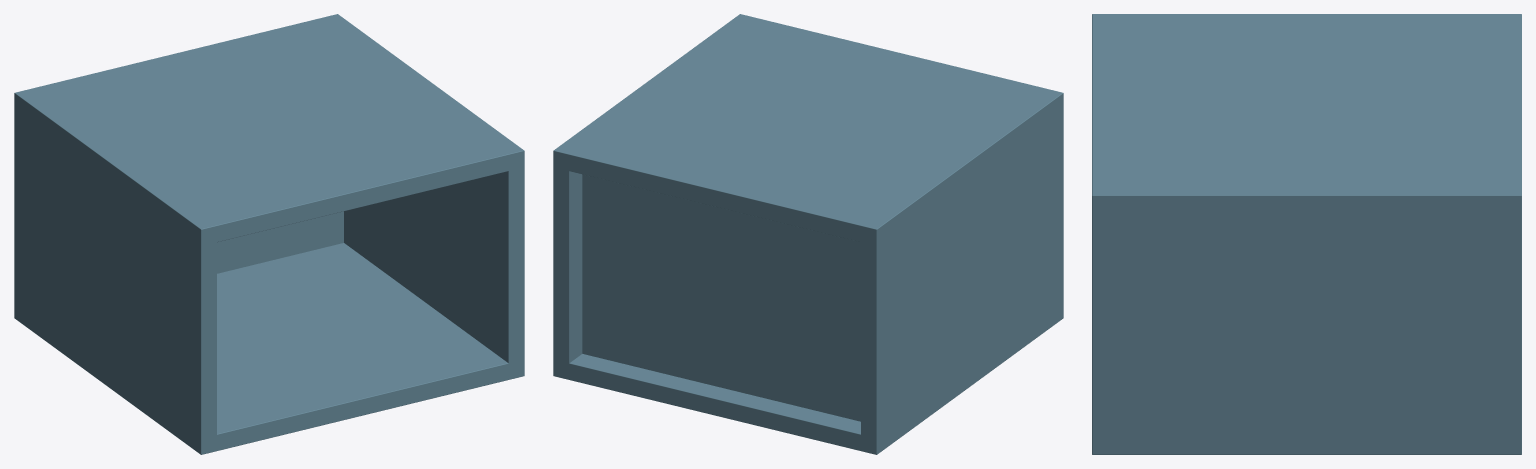
The model's file is MOD-1X07-A-B-AC.glb.
3 renders of one model, left to right at view 1: azimuth 30°, elevation 25°; view 2: azimuth 150°, elevation 25°; view 3: azimuth 270°, elevation 25°, orthographic. The views are drawn at different scales.
Bounding box in the file's own units: 360 × 240 × 360.
